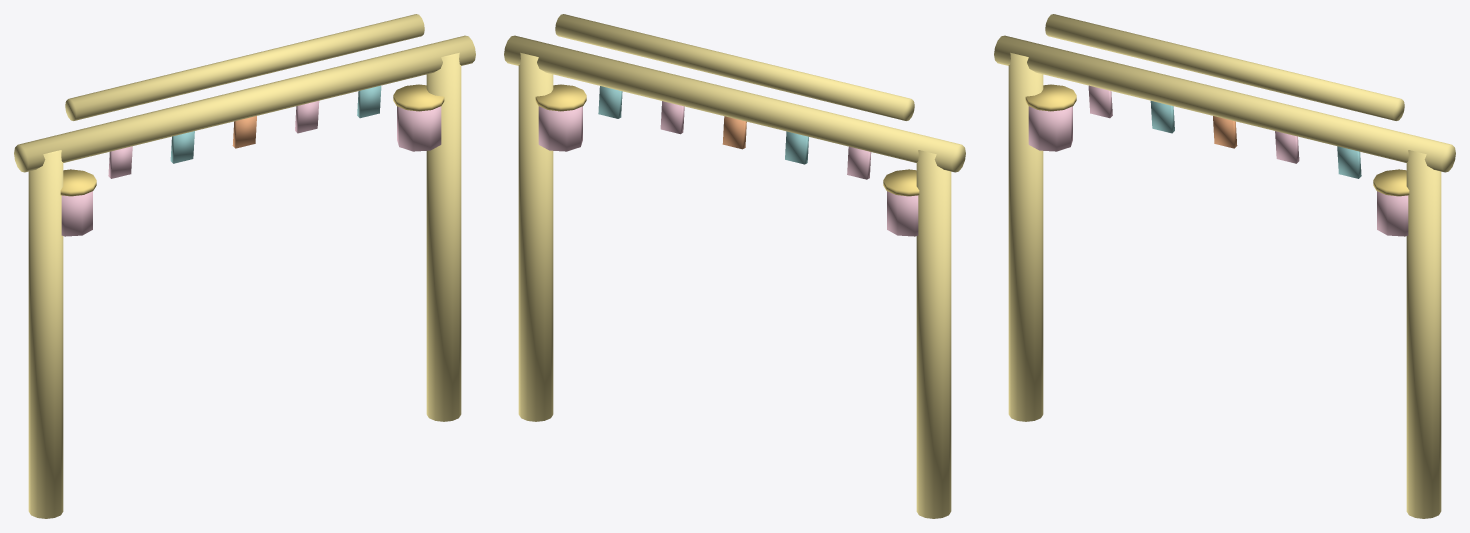
Rendered from festival_archway.glb.
3 views of the same model, side by side, from view 1: azimuth 30°, elevation 25°; view 2: azimuth 150°, elevation 25°; view 3: azimuth 330°, elevation 25° (orthographic).
Visible parts, largest first — view 1: arch_cross, arch_col_l, arch_col_r, arch_cross_top, hang_lan_r, hang_lan_l, hang_lan_cap_r, hang_lan_cap_l, flag_0, flag_1, flag_3, flag_4 (+1 smaller); view 2: arch_cross, arch_col_l, arch_col_r, arch_cross_top, hang_lan_r, hang_lan_l, hang_lan_cap_r, hang_lan_cap_l, flag_4, flag_2, flag_3, flag_0 (+1 smaller); view 3: arch_cross, arch_col_r, arch_col_l, arch_cross_top, hang_lan_l, hang_lan_r, hang_lan_cap_l, hang_lan_cap_r, flag_4, flag_3, flag_0, flag_1 (+1 smaller).
Boxes of the visible parts, x1,y1,x2,y2 form: arch_cross: (14,35,475,172); arch_col_l: (28,150,63,518); arch_col_r: (426,52,461,421); arch_cross_top: (65,14,424,120); hang_lan_r: (397,106,441,151); hang_lan_l: (61,191,92,236); hang_lan_cap_r: (393,84,444,111); hang_lan_cap_l: (60,169,96,196); flag_0: (108,146,132,178); flag_1: (170,131,194,163); flag_3: (295,101,319,133); flag_4: (357,85,381,118); arch_cross: (504,35,965,172); arch_col_l: (916,150,951,518); arch_col_r: (518,52,553,421); arch_cross_top: (555,14,914,120); hang_lan_r: (538,106,582,151); hang_lan_l: (887,191,918,236); hang_lan_cap_r: (535,84,586,111); hang_lan_cap_l: (883,169,919,196); flag_4: (598,86,622,118); flag_2: (722,116,746,149); flag_3: (660,101,684,134); flag_0: (847,146,871,179); arch_cross: (994,35,1455,172); arch_col_r: (1406,150,1441,518); arch_col_l: (1008,52,1043,421); arch_cross_top: (1045,14,1404,120); hang_lan_l: (1028,106,1072,151); hang_lan_r: (1377,191,1408,236); hang_lan_cap_l: (1025,84,1076,111); hang_lan_cap_r: (1373,169,1409,196); flag_4: (1337,146,1361,178); flag_3: (1275,131,1299,163); flag_0: (1088,85,1112,118); flag_1: (1150,101,1174,133).
Bounding box in the file's own units: 1.8 × 1.56 × 0.18.
